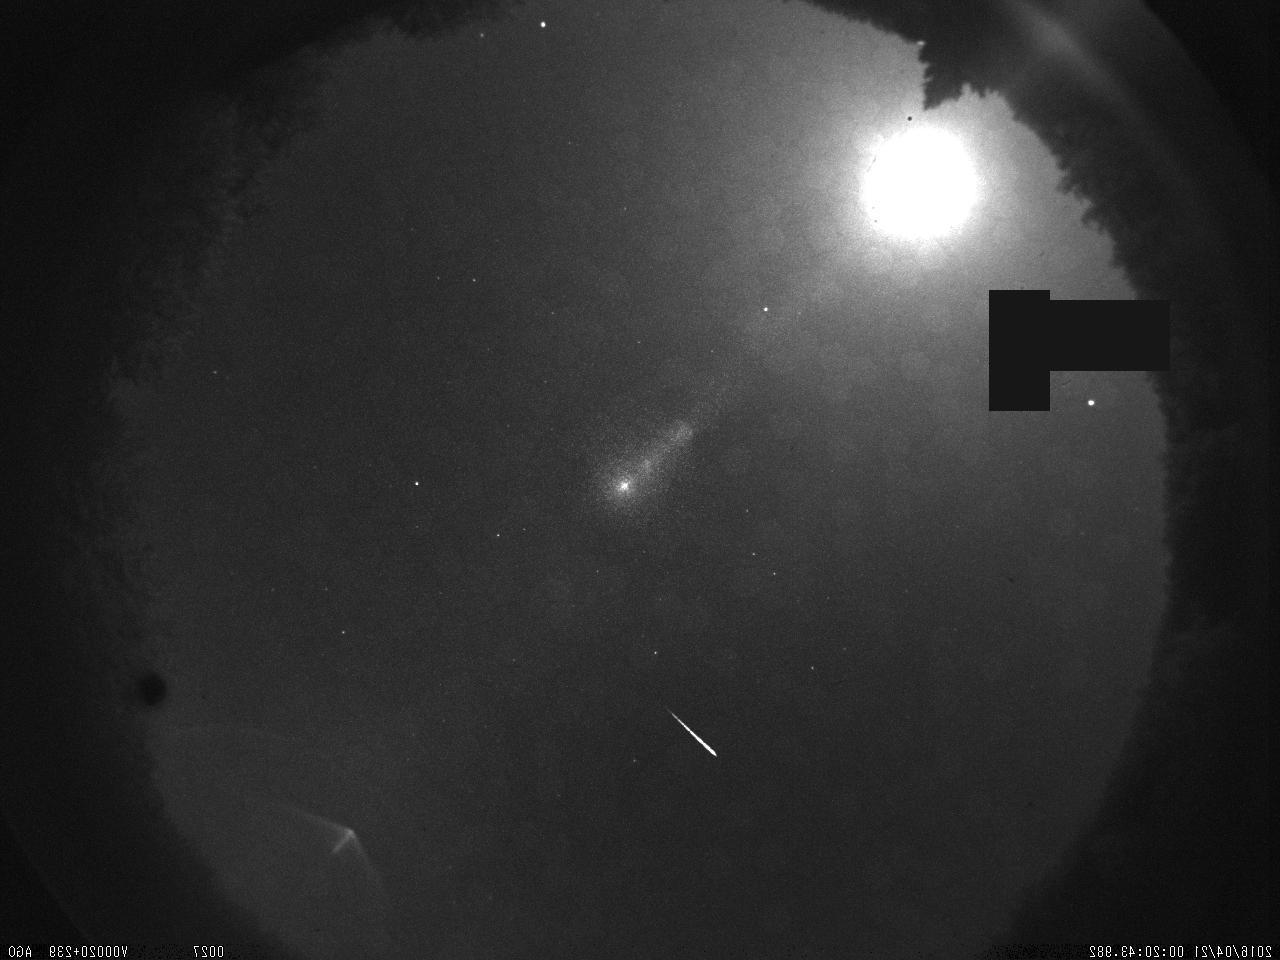meteor: (661, 696, 727, 769)
